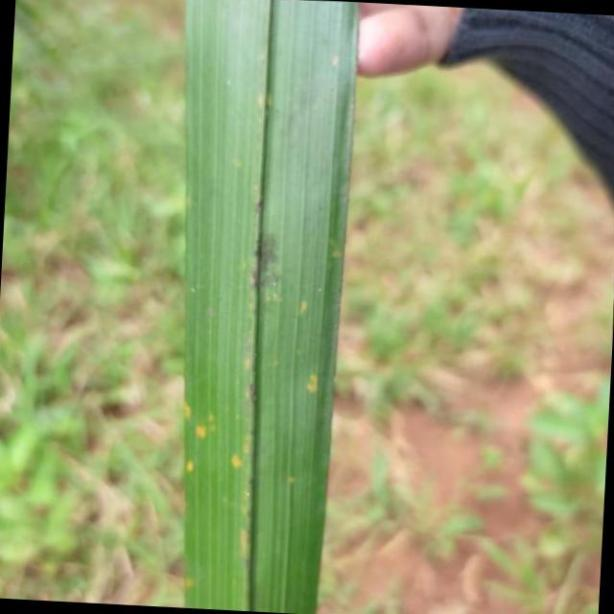Kalium: (180, 0, 359, 614)
